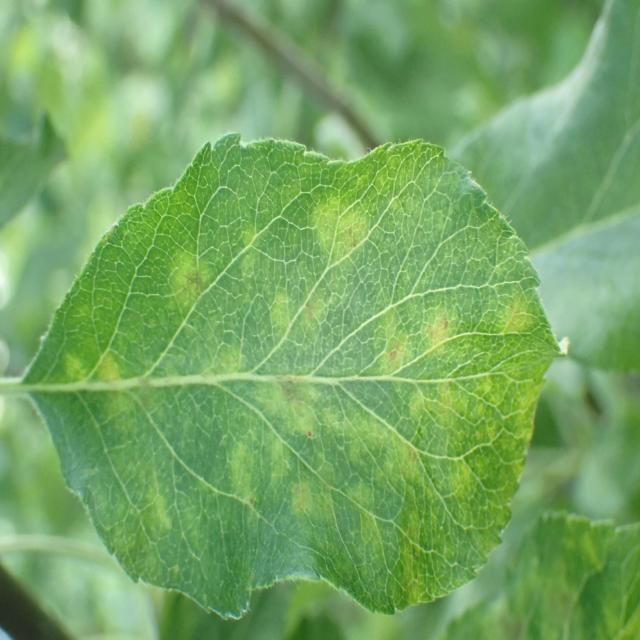scab: (27, 182, 537, 584), (469, 485, 638, 635)
